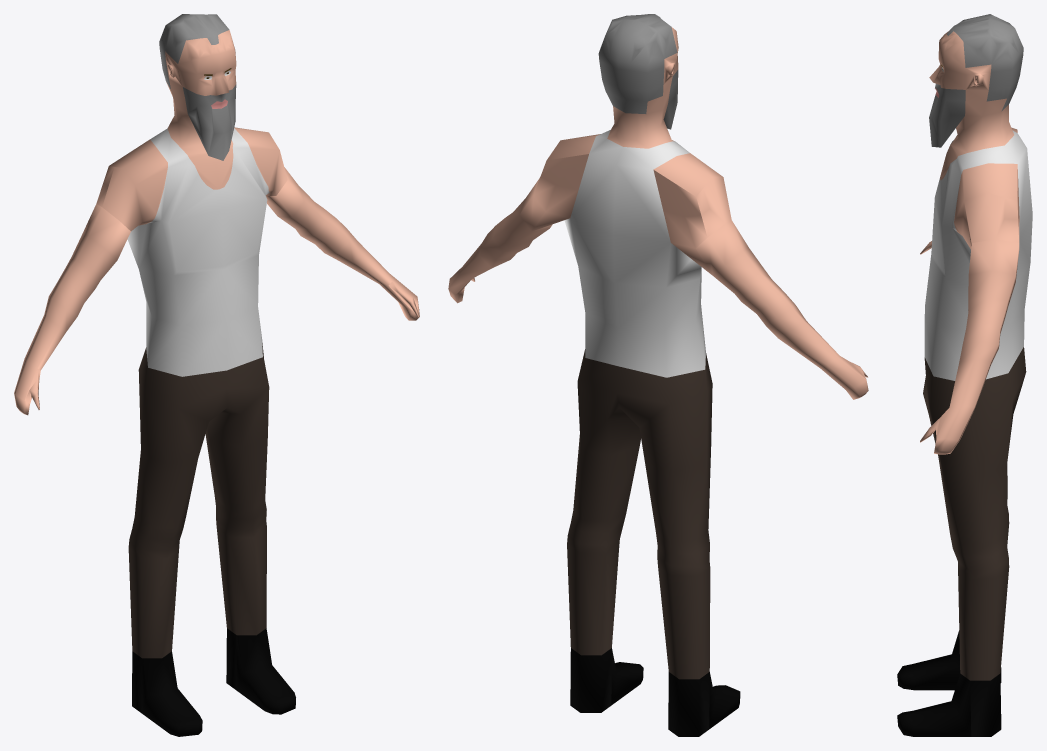
Rendered from Zwerver.fbx.
3 renders of one model, left to right at view 1: azimuth 30°, elevation 25°; view 2: azimuth 150°, elevation 25°; view 3: azimuth 270°, elevation 25°, orthographic. The views are drawn at different scales.
Visible parts, largest first — view 1: Body; view 2: Body; view 3: Body.
Boxes of the visible parts, x1,y1,x2,y2 form: Body: [14, 14, 419, 736]; Body: [448, 14, 868, 736]; Body: [897, 14, 1032, 736].
Size of the model in its own units: 114 by 183 by 32.73.
